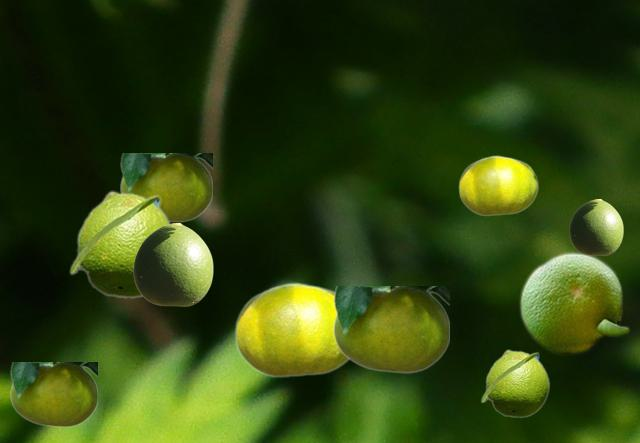dalandan: (518, 250, 630, 354), (68, 190, 171, 298), (234, 282, 348, 377), (333, 286, 448, 372), (133, 223, 212, 305), (120, 153, 211, 221), (10, 362, 96, 426), (458, 155, 537, 215), (480, 349, 549, 417), (569, 199, 622, 254)
